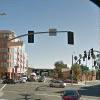Traffic light: (24, 24, 80, 56)
